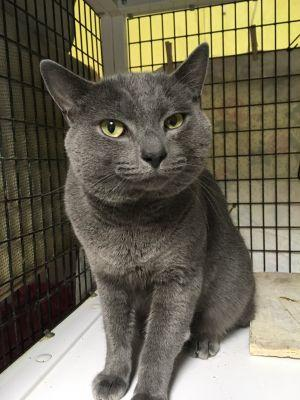rblue: (37, 22, 223, 215)
